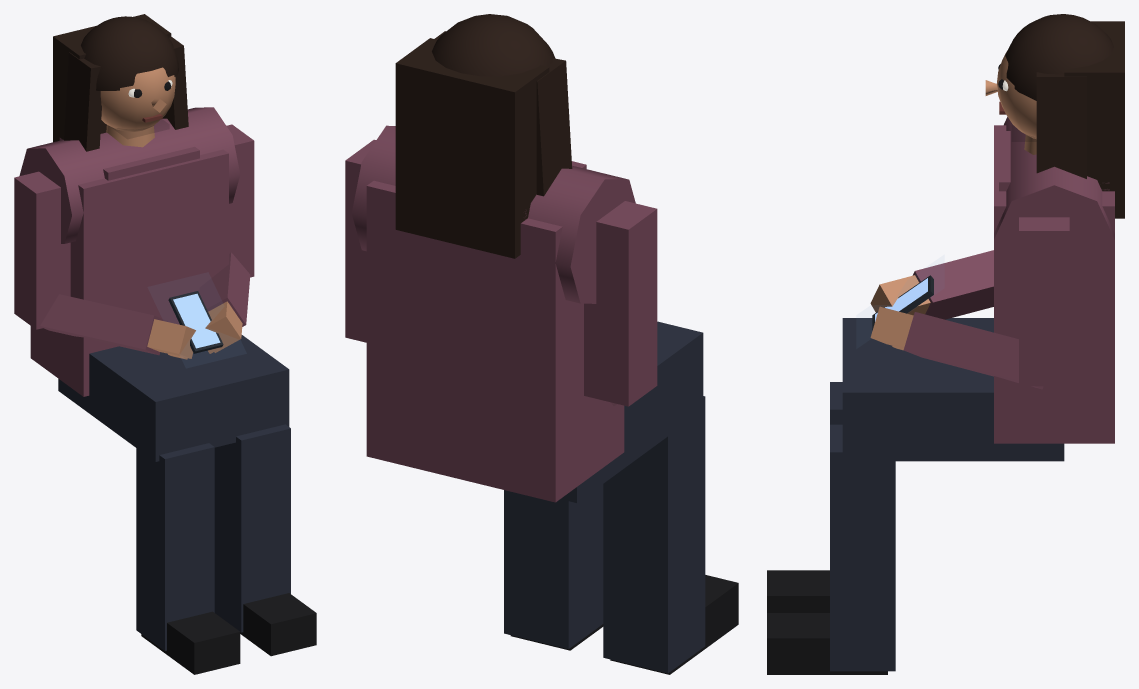
File: mom.glb
The picture shows the model from 3 angles, left to right: view 1: azimuth 30°, elevation 25°; view 2: azimuth 150°, elevation 25°; view 3: azimuth 270°, elevation 25°; orthographic projection. The views are drawn at different scales.
Visible parts, largest first — view 1: mom, Head, Body_Skin, Head_Skin, Phone; view 2: mom, Head; view 3: mom, Head, Body_Skin, Head_Skin, Phone.
Part boxes in pixels (x1,y1,x2,y2): mom: (14,107,316,674); Head: (53,14,188,151); Body_Skin: (106,125,242,359); Head_Skin: (100,67,175,131); Phone: (168,290,223,353); mom: (345,125,738,674); Head: (395,14,572,258); mom: (767,117,1114,674); Head: (999,14,1124,218); Body_Skin: (870,135,1036,350); Head_Skin: (985,51,1036,139); Phone: (872,275,933,330).
Bounding box in the file's own units: 0.57 × 1.36 × 0.71.
